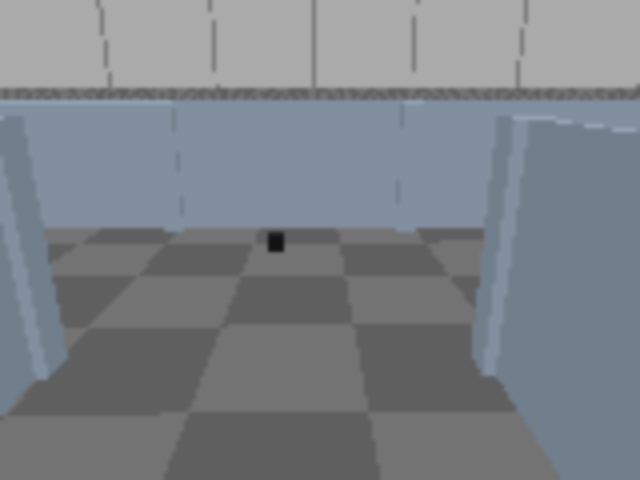puck: (270, 231, 283, 252)
